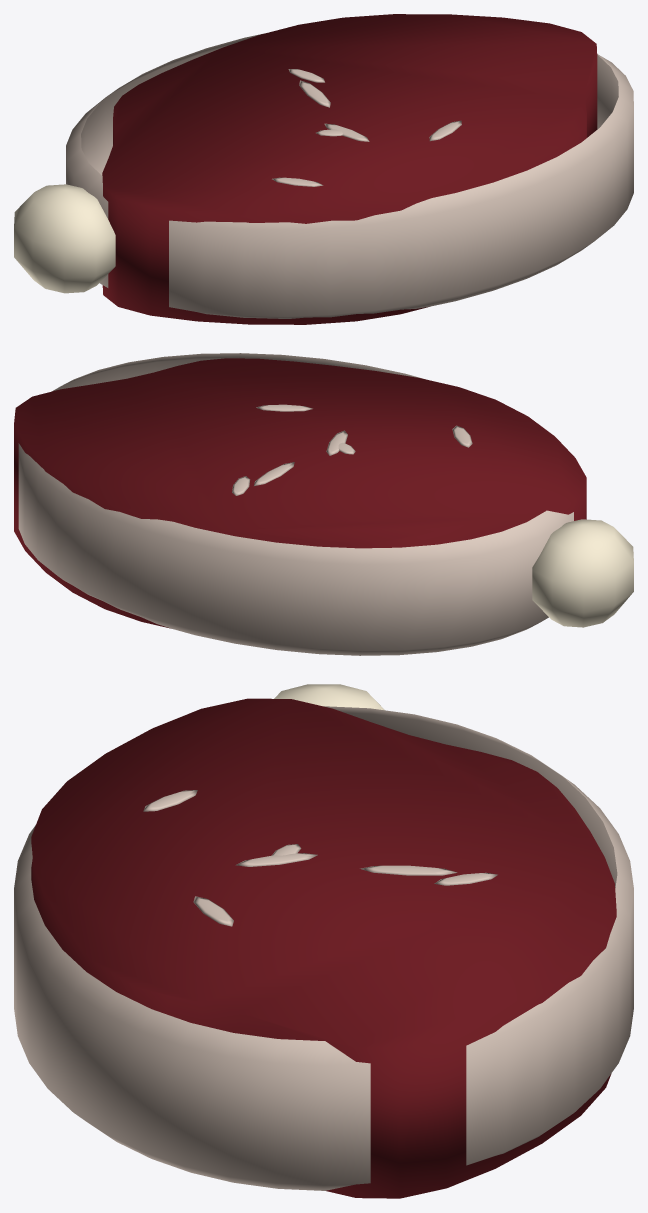
File: wildbret.glb
3 views of the same model, one above another, from view 1: azimuth 30°, elevation 25°; view 2: azimuth 150°, elevation 25°; view 3: azimuth 270°, elevation 25° (orthographic). The views are drawn at different scales.
Parts seen in each view (by area): view 1: Cylinder, fett, Sphere.006; view 2: Cylinder, fett, Sphere.006; view 3: Cylinder, fett, Sphere.006, Sphere.002.
Part boxes in pixels (x1=…): Cylinder: x1=102, y1=14, x2=597, y2=324; fett: x1=66, y1=33, x2=633, y2=318; Sphere.006: x1=14, y1=184, x2=115, y2=293; Cylinder: x1=14, y1=358, x2=586, y2=628; fett: x1=18, y1=353, x2=573, y2=655; Sphere.006: x1=532, y1=519, x2=633, y2=627; Cylinder: x1=31, y1=698, x2=616, y2=1198; fett: x1=14, y1=706, x2=633, y2=1190; Sphere.006: x1=274, y1=684, x2=384, y2=710; Sphere.002: x1=360, y1=865, x2=457, y2=875.
Size of the model in its own units: 0.2275 by 0.0406 by 0.15.
